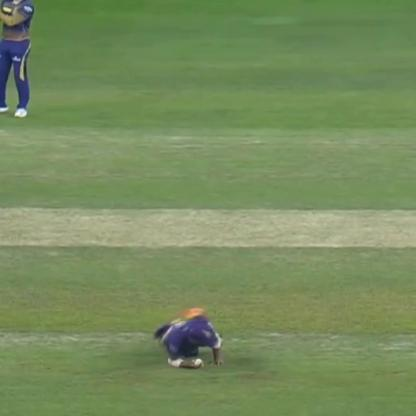ball: (192, 356, 204, 367)
